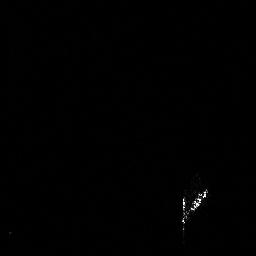ship: (176, 184, 212, 234)
